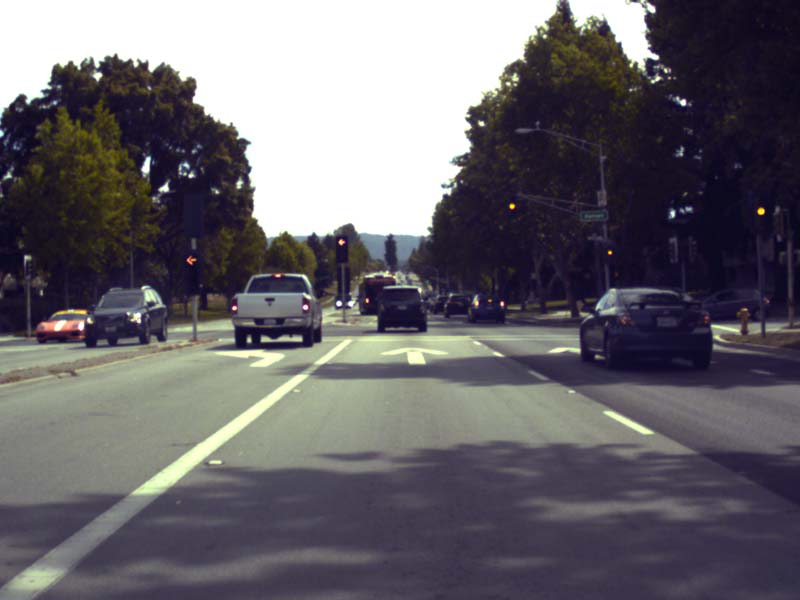Red: (184, 252, 198, 295), (335, 236, 347, 262)
Yellow: (754, 197, 766, 232), (507, 195, 516, 217), (606, 244, 613, 262)
